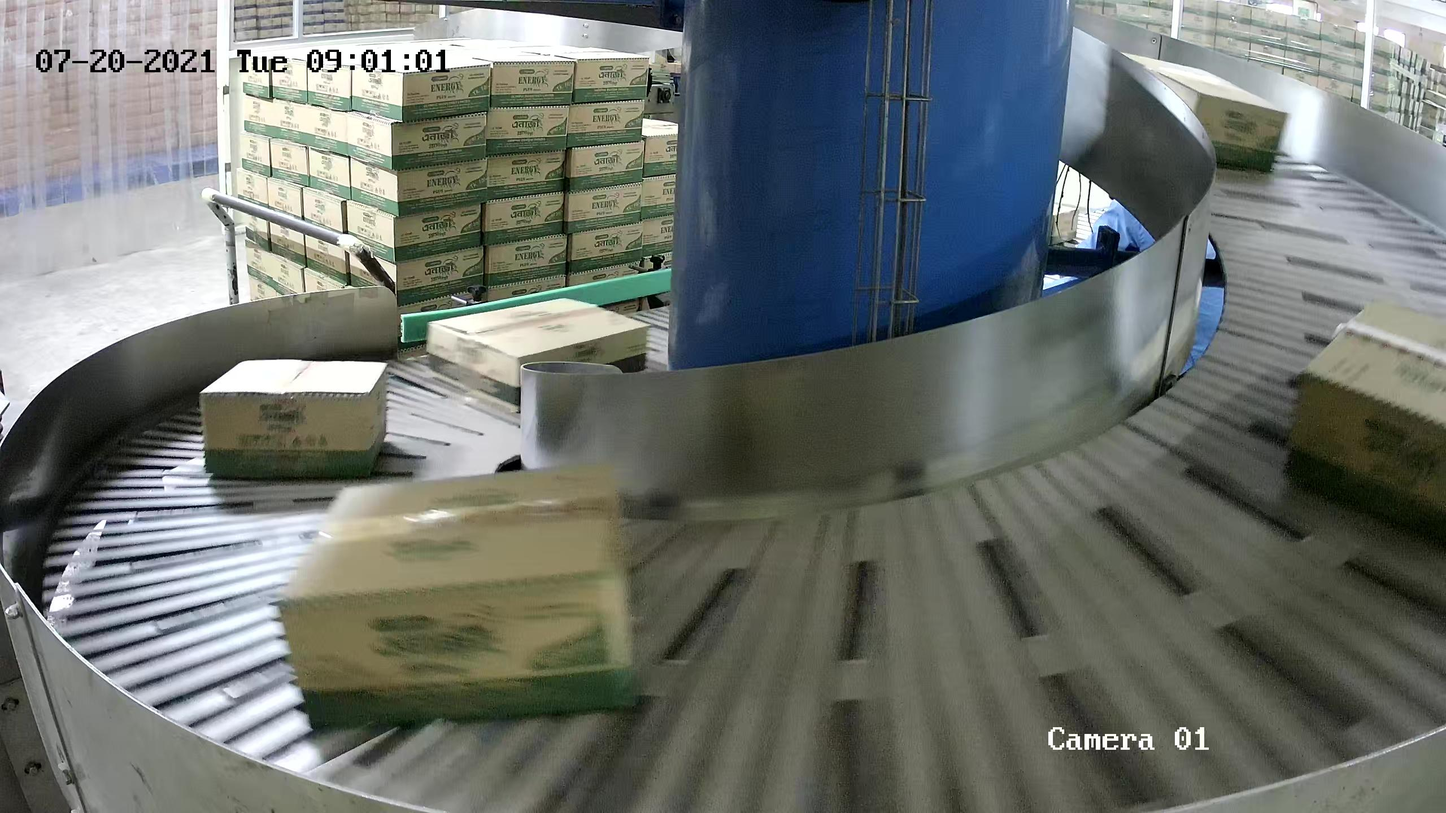Box: (271, 462, 639, 731), (1283, 297, 1446, 560), (424, 296, 652, 414), (199, 357, 388, 481), (1114, 49, 1291, 175)
